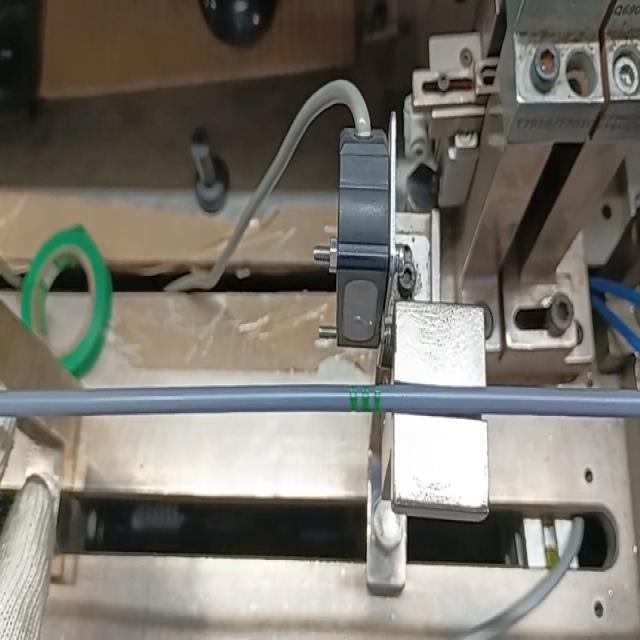green: (349, 385, 382, 413)
